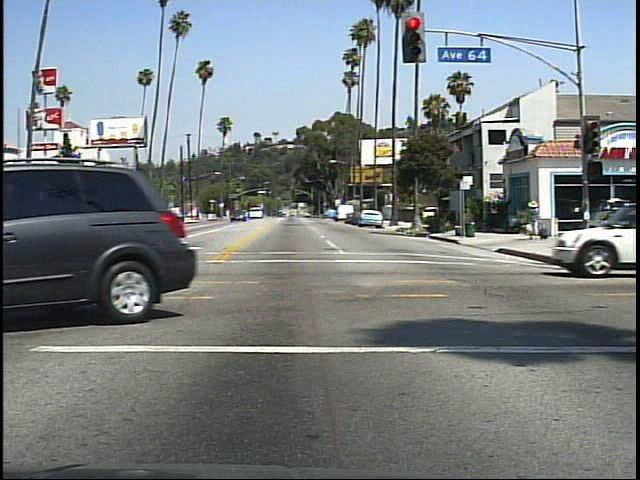person: (523, 195, 549, 248)
